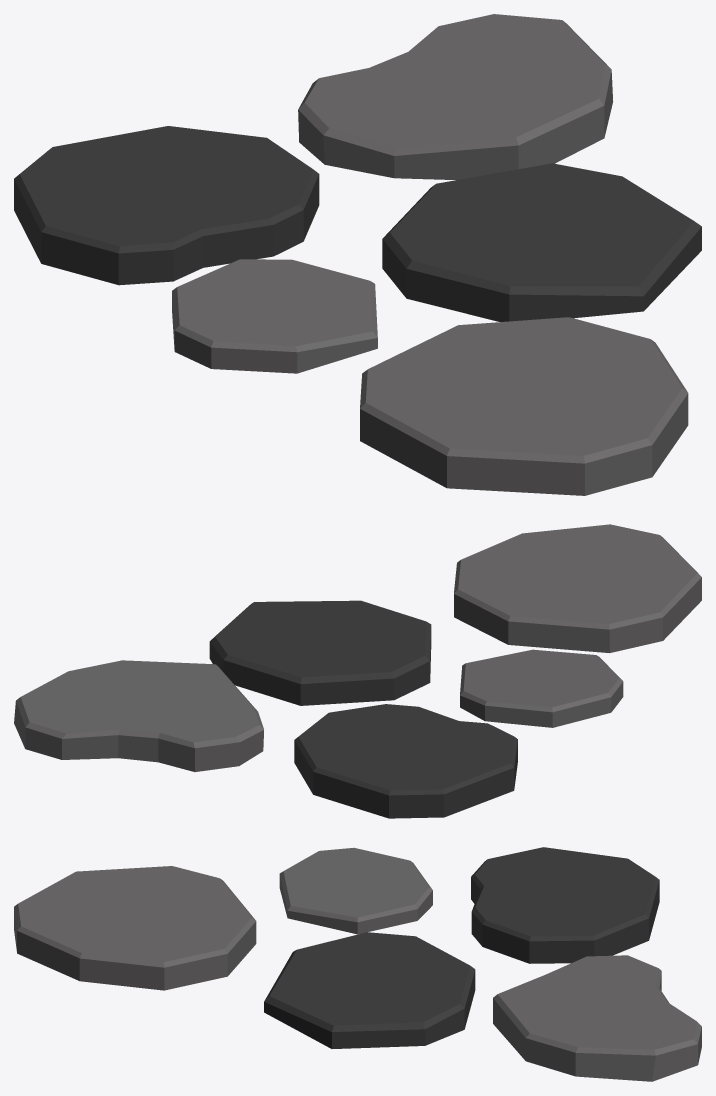
File: StonePavement_1.fbx
3 views of the same model, one above another, from view 1: azimuth 30°, elevation 25°; view 2: azimuth 150°, elevation 25°; view 3: azimuth 270°, elevation 25° (orthographic). The views are drawn at different scales.
Parts seen in each view (by area): view 1: StonePavement_1; view 2: StonePavement_1; view 3: StonePavement_1.
Boxes of the visible parts, x1,y1,x2,y2 form: StonePavement_1: (14, 14, 701, 495); StonePavement_1: (14, 524, 701, 818); StonePavement_1: (14, 847, 701, 1081).
Bounding box in the file's own units: 97.5 × 6.75 × 135.
